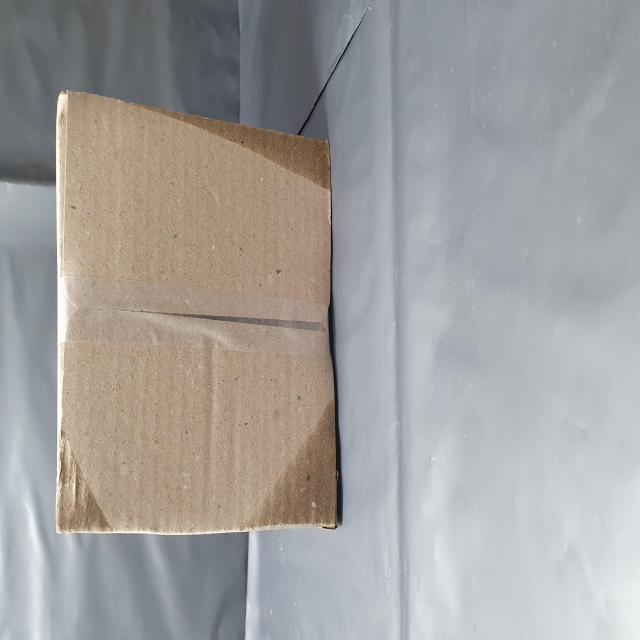wet: (249, 288, 298, 594), (59, 462, 144, 602), (59, 99, 122, 182)
